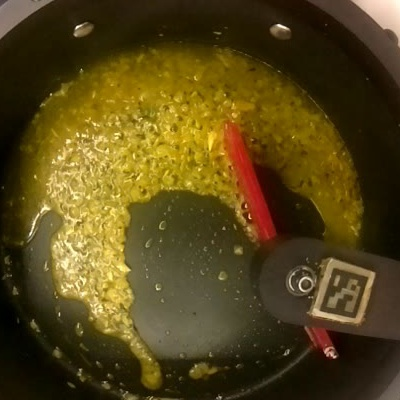stirrer: (251, 221, 398, 345)
